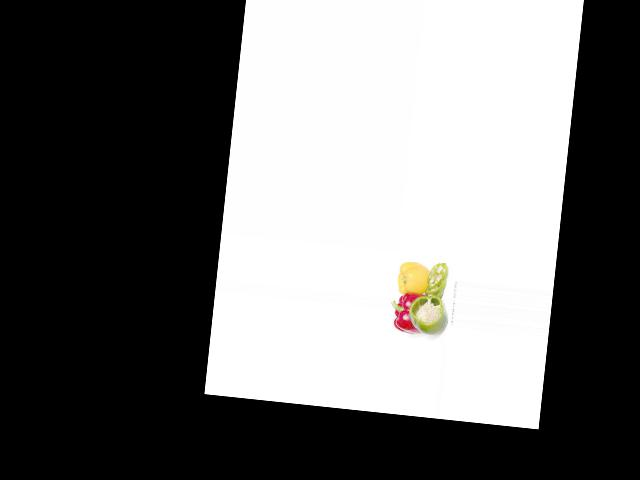bell_pepper: (405, 292, 447, 339)
